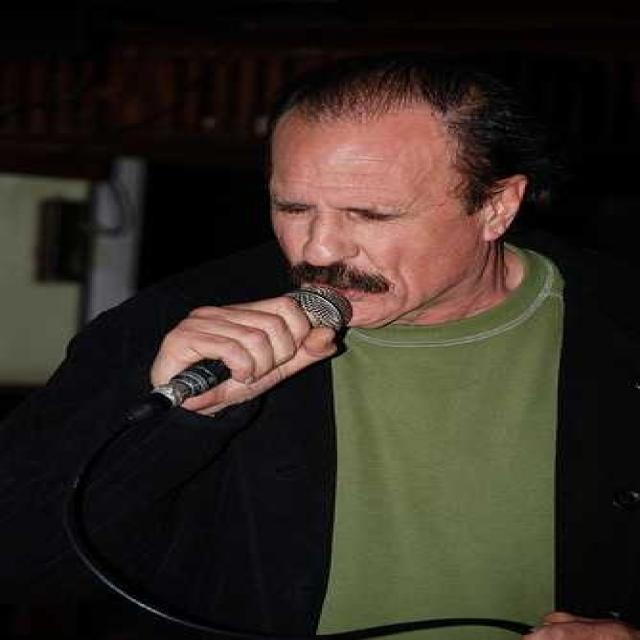microphone: (143, 282, 358, 417)
